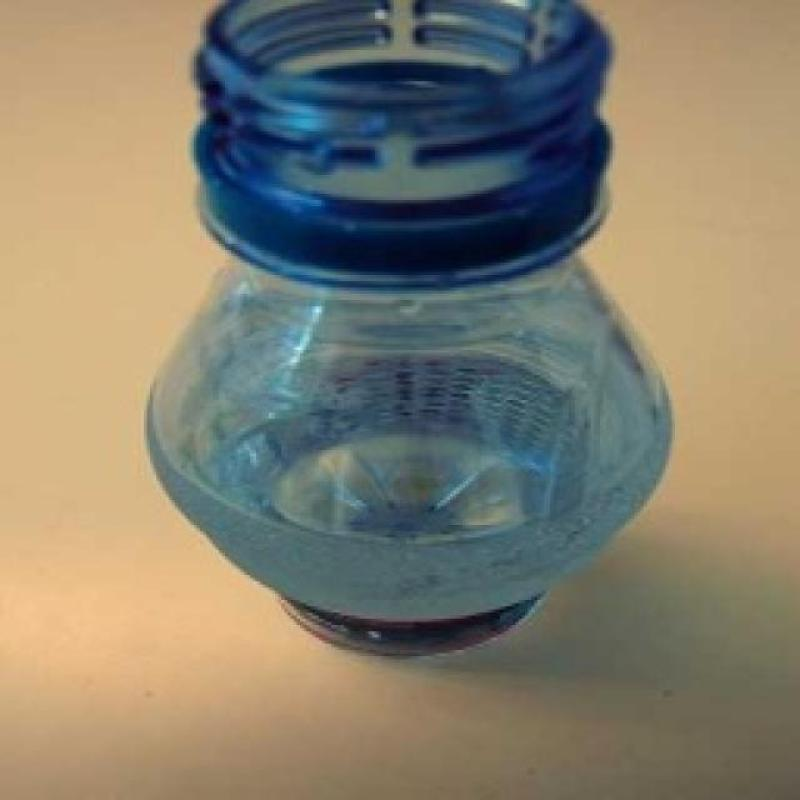botella: (142, 0, 677, 669)
